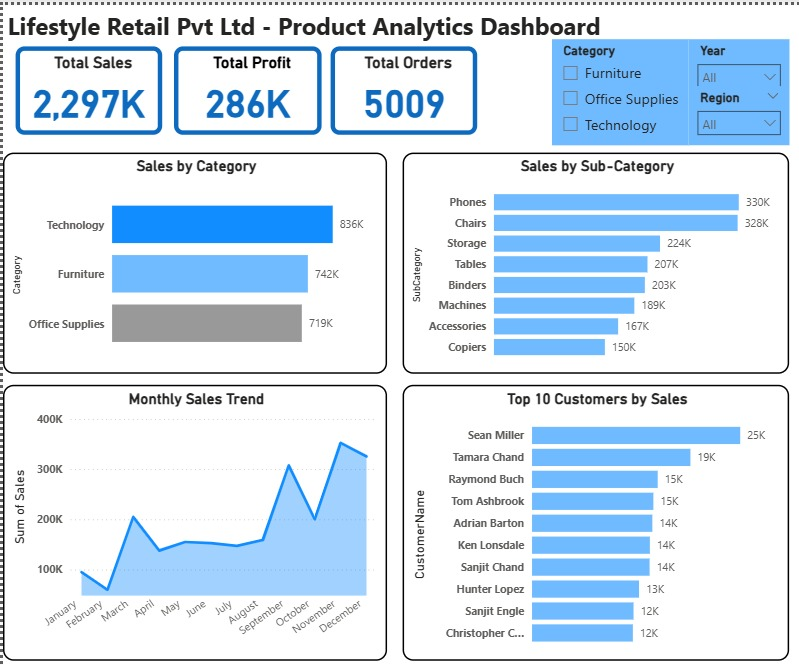

The dashboard page shown, as its layout file describes it:
{"tool":"powerbi","page":{"name":"Page 1","canvas":[900,750],"ordinal":0},"visuals":[{"type":"card","title":"Total Orders","fields":{"Values":["Orders.Total_Orders"]},"box":[368.1,47.5,164.8,99.4],"z":0},{"type":"barChart","title":"Sales by Category","fields":{"Category":["Orders.Category"],"Y":["Sum(Orders.Sales)"]},"box":[0,166.6,432.2,249.1],"z":1000},{"type":"clusteredBarChart","title":"Sales by Sub-Category","fields":{"Category":["Orders.SubCategory"],"Y":["Sum(Orders.Sales)"]},"box":[450.2,166.6,435.2,249.1],"z":2000},{"type":"areaChart","title":"Monthly Sales Trend","fields":{"Category":["Orders.OrderDate.Variation.Date Hierarchy.Month"],"Y":["Sum(Orders.Sales)"]},"box":[0,427.7,432.2,310.7],"z":3000},{"type":"barChart","title":"Top 10 Customers by Sales","fields":{"Category":["Orders.CustomerName"],"Y":["Sum(Orders.Sales)"]},"box":[450.2,427.7,435.2,310.7],"z":4000},{"type":"card","title":"Total Sales","fields":{"Values":["Orders.Total Sales"]},"box":[13.4,47.5,164.8,99.4],"z":5000},{"type":"card","title":"Total Profit","fields":{"Values":["Orders.Total Profit"]},"box":[191.5,47.5,166.2,99.4],"z":6000},{"type":"textbox","box":[0,0,690.2,47.5],"z":7000},{"type":"slicer","fields":{"Values":["Orders.Region"]},"box":[771.8,91.2,113.4,66.8],"z":11003},{"type":"slicer","fields":{"Values":["Orders.OrderDate.Variation.Date Hierarchy.Year"]},"box":[771.8,38.5,113.4,52.7],"z":11004},{"type":"slicer","fields":{"Values":["Orders.Category"]},"box":[617.9,38.5,154,119.5],"z":11005}]}

Visuals, with their boxes in screenshot pixels (x1, y1, x2, y2), scaled from the page's 900x750 canvas onto the 799x665 screenshot:
"Total Orders" card: bbox(327, 42, 473, 130)
"Sales by Category" barChart: bbox(0, 148, 384, 369)
"Sales by Sub-Category" clusteredBarChart: bbox(400, 148, 786, 369)
"Monthly Sales Trend" areaChart: bbox(0, 379, 384, 655)
"Top 10 Customers by Sales" barChart: bbox(400, 379, 786, 655)
"Total Sales" card: bbox(12, 42, 158, 130)
"Total Profit" card: bbox(170, 42, 318, 130)
textbox: bbox(0, 0, 613, 42)
slicer - Orders.Region: bbox(685, 81, 786, 140)
slicer - Orders.OrderDate.Variation.Date Hierarchy.Year: bbox(685, 34, 786, 81)
slicer - Orders.Category: bbox(549, 34, 685, 140)
